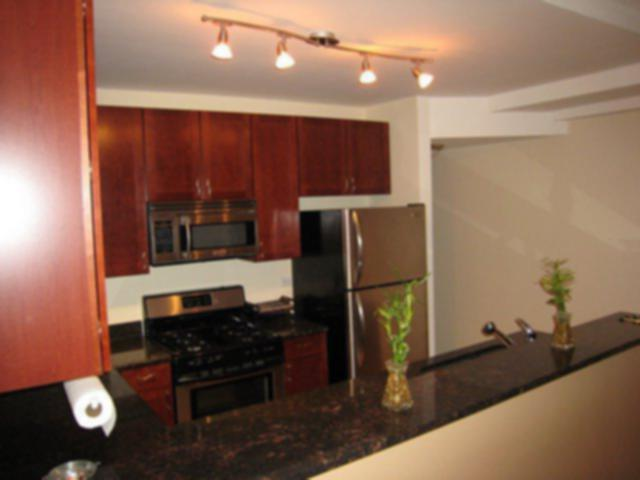Electrodomestico: (326, 203, 430, 364), (135, 300, 282, 370)
